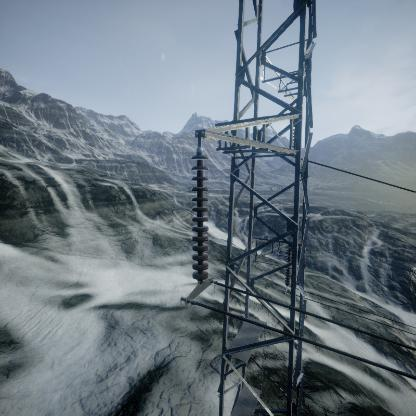insulator: (190, 147, 212, 285)
